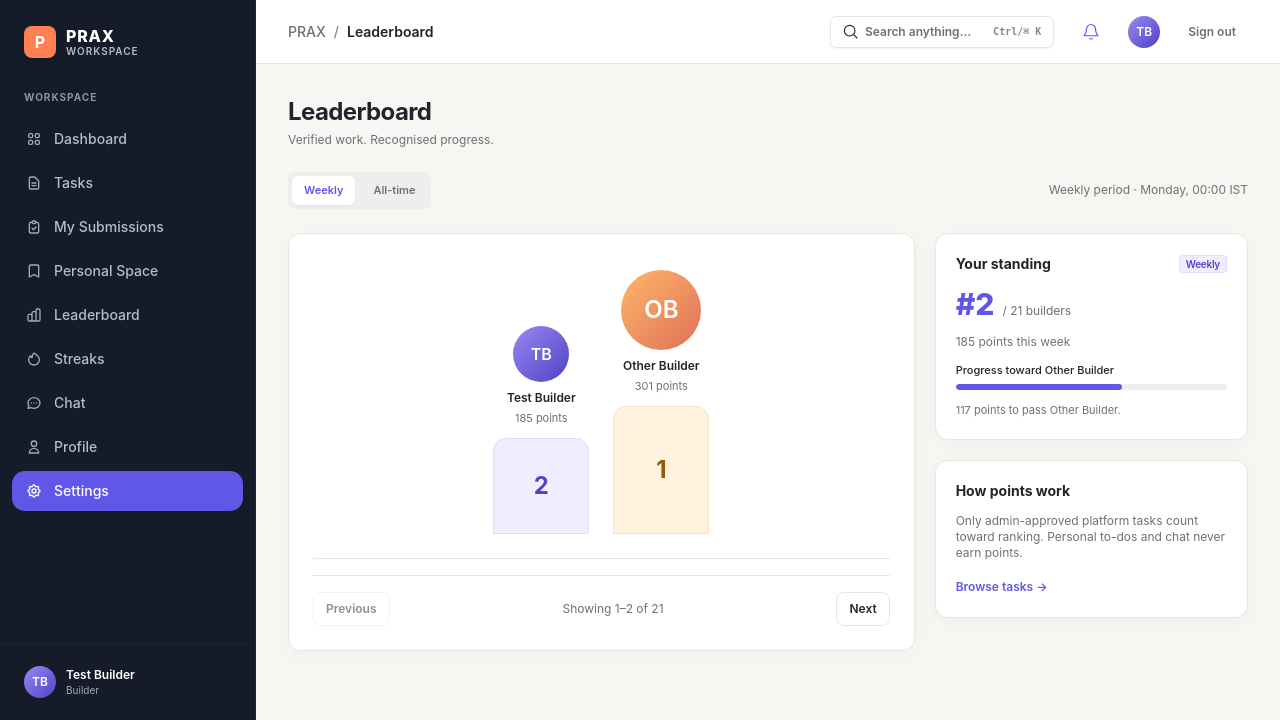
Test: functional member controls › switches leaderboard podium and own standing together
Expected: the text "185 points this week" is shown, [956,334,1070,348]
Click the tab "All-time" at coordinates (394, 190), box [361,176,428,204]
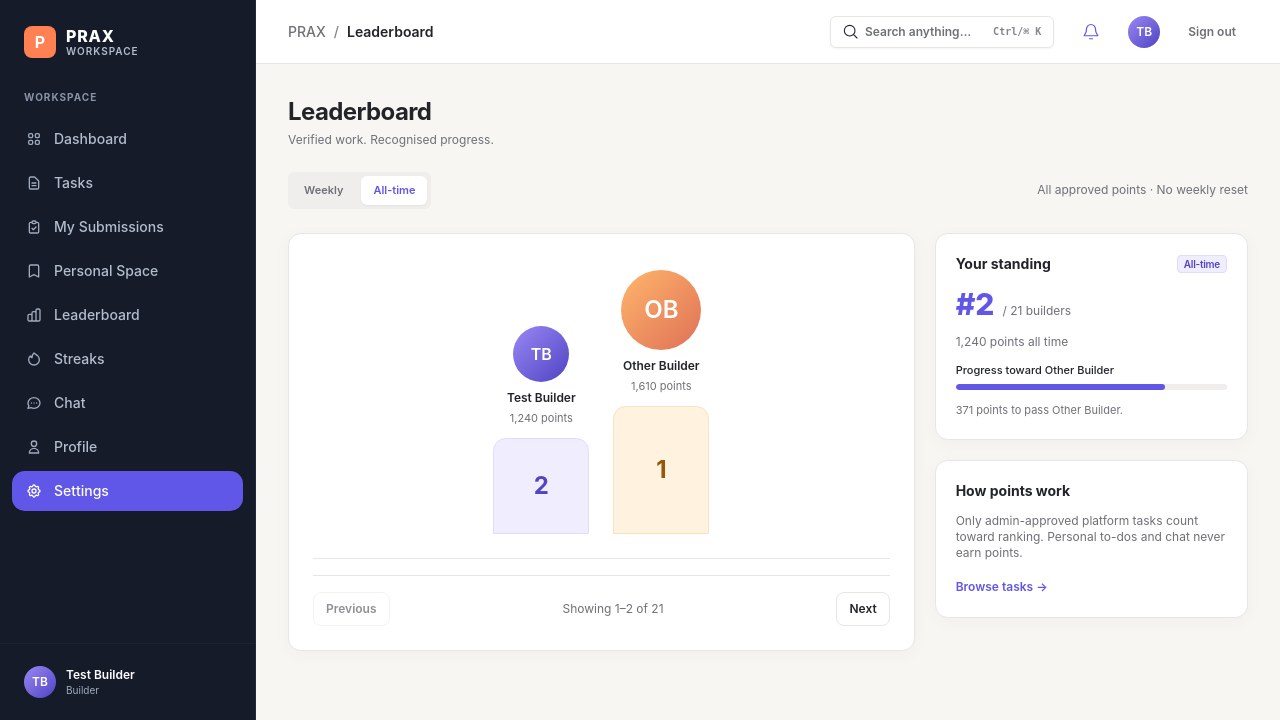
Expected: the text "#2" is shown, [956,286,1071,322]
Now the text "1,240 points all time" is shown, box [956,334,1068,348]
